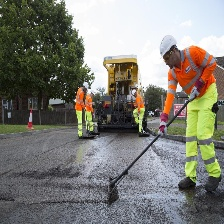helmet: (158, 34, 178, 60), (82, 81, 90, 92), (131, 89, 137, 98), (90, 89, 95, 97)
person: (157, 34, 222, 196), (74, 81, 89, 141), (131, 88, 144, 135), (86, 89, 96, 136)
vest: (169, 53, 216, 99), (75, 87, 84, 110), (134, 94, 145, 109), (86, 94, 92, 112)
